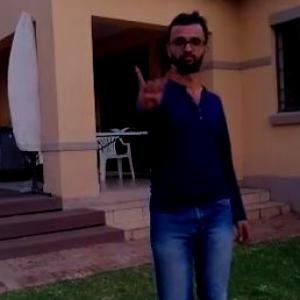takeoff-hand: (126, 57, 183, 115)
